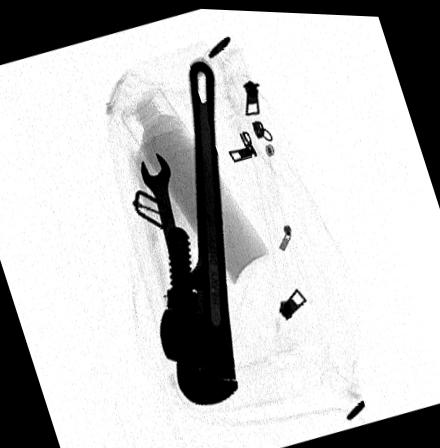Wrench: (159, 56, 237, 404), (139, 150, 177, 253)
